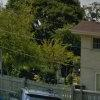Tree: (2, 1, 78, 82)
